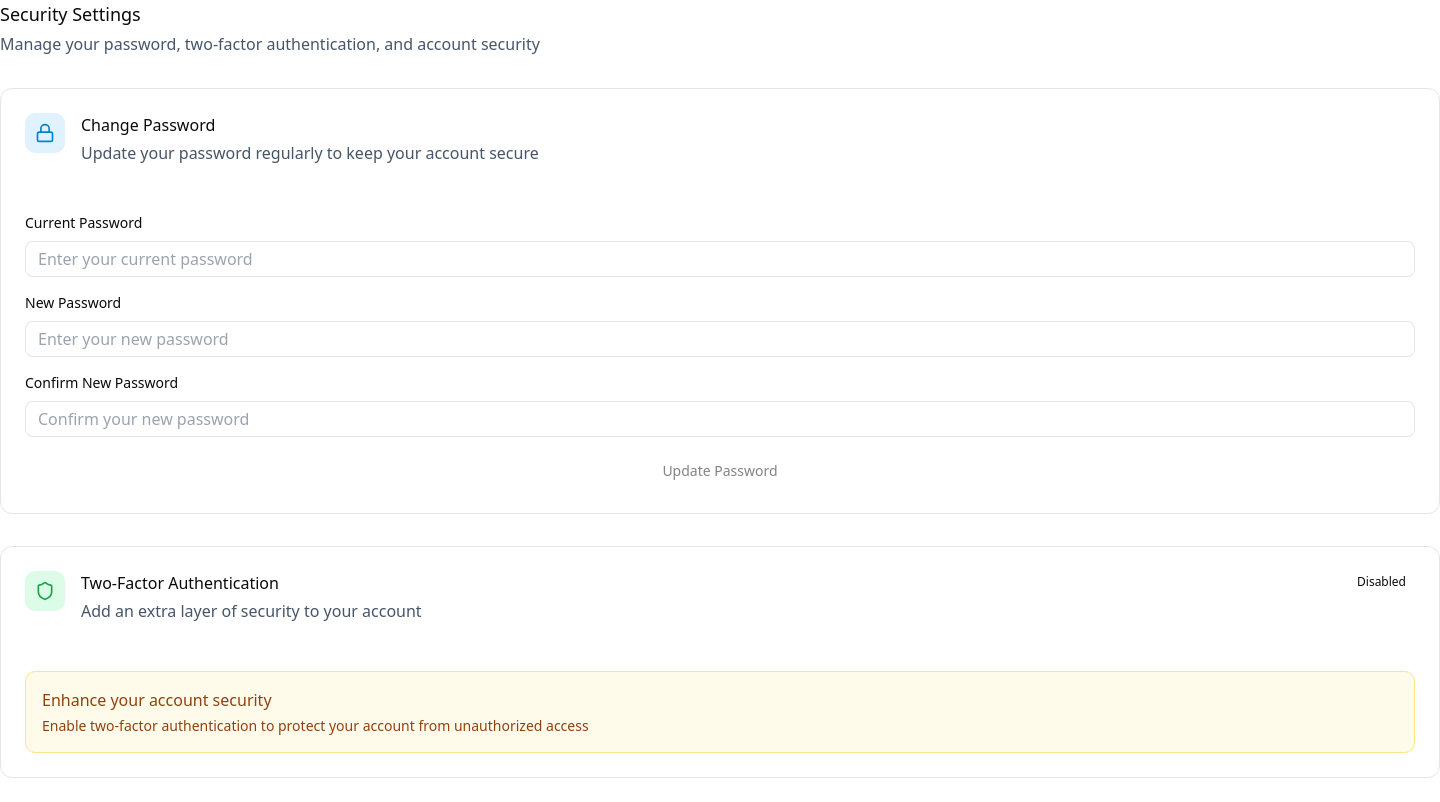
Test: SecuritySection › shows password strength indicator
Type "weak" into the password field with placeholder "Enter your new password" at {"x": 720, "y": 339}, box [25,321,1415,357]
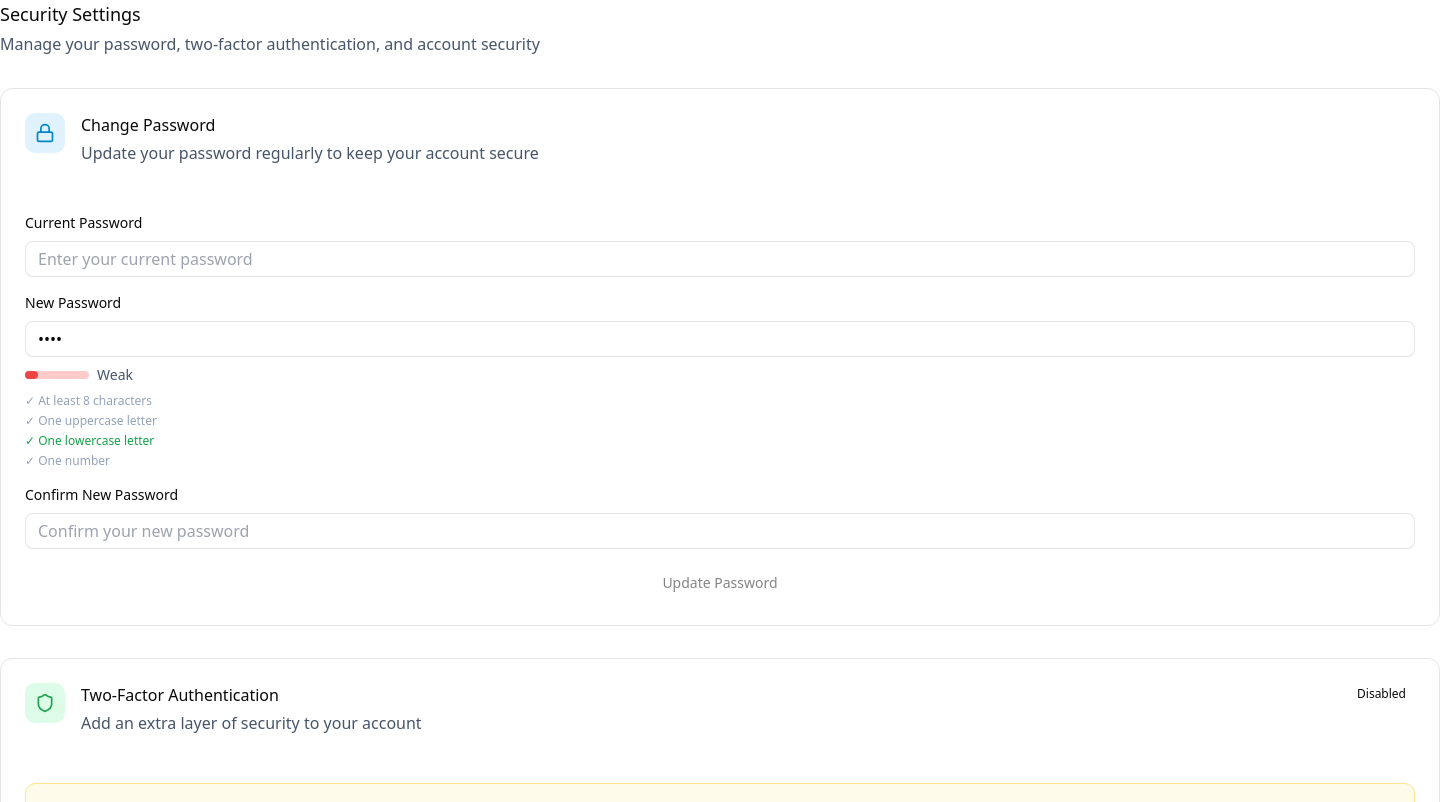
Result: the text "Weak" is shown at [97,365,133,385]
Type "StrongPassword123!" into the password field with placeholder "Enter your new password" at {"x": 720, "y": 339}, box [25,321,1415,357]
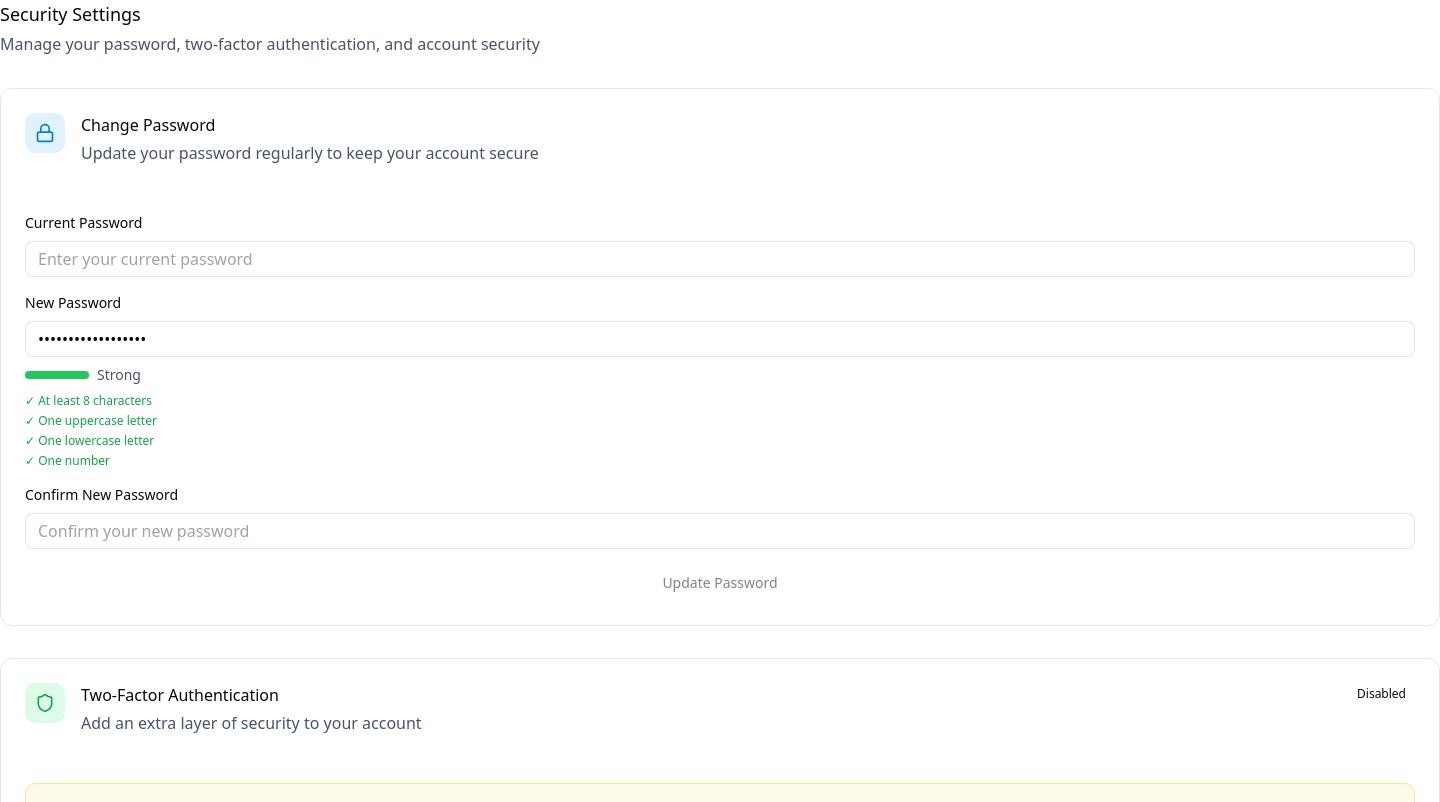
Result: the text "Strong" is shown at [97,365,141,385]
